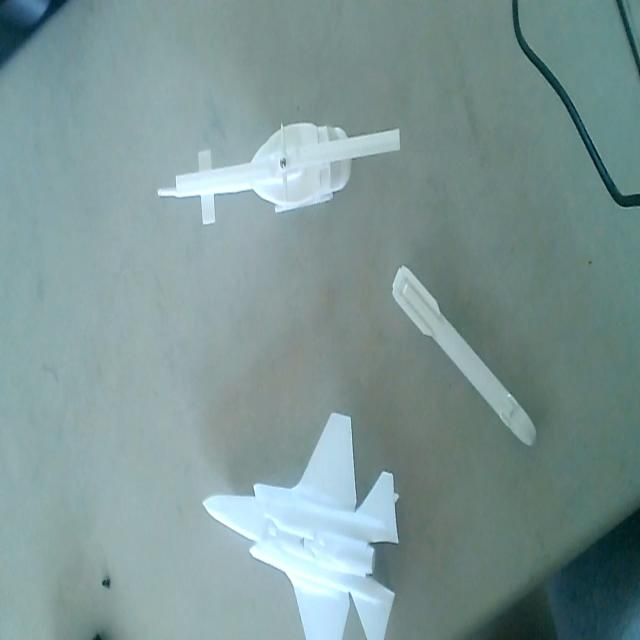Helicopter: (152, 115, 402, 226)
Jet: (202, 406, 400, 640)
Rocket: (390, 260, 539, 451)
